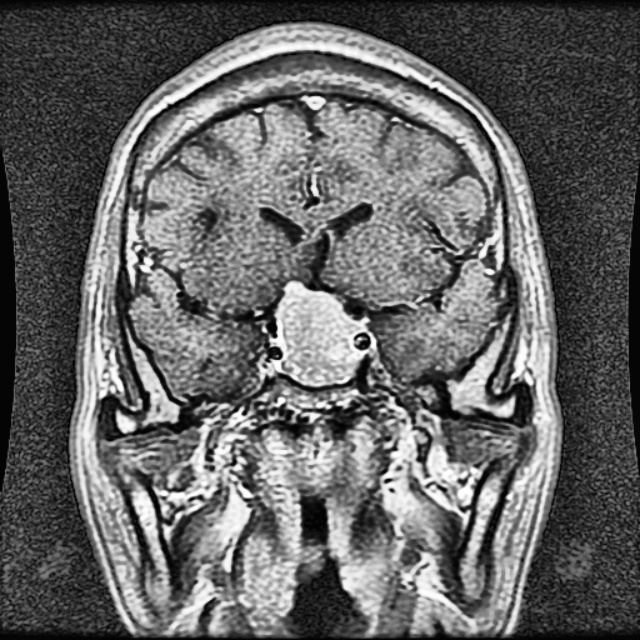Pituitary: (278, 284, 362, 383)
